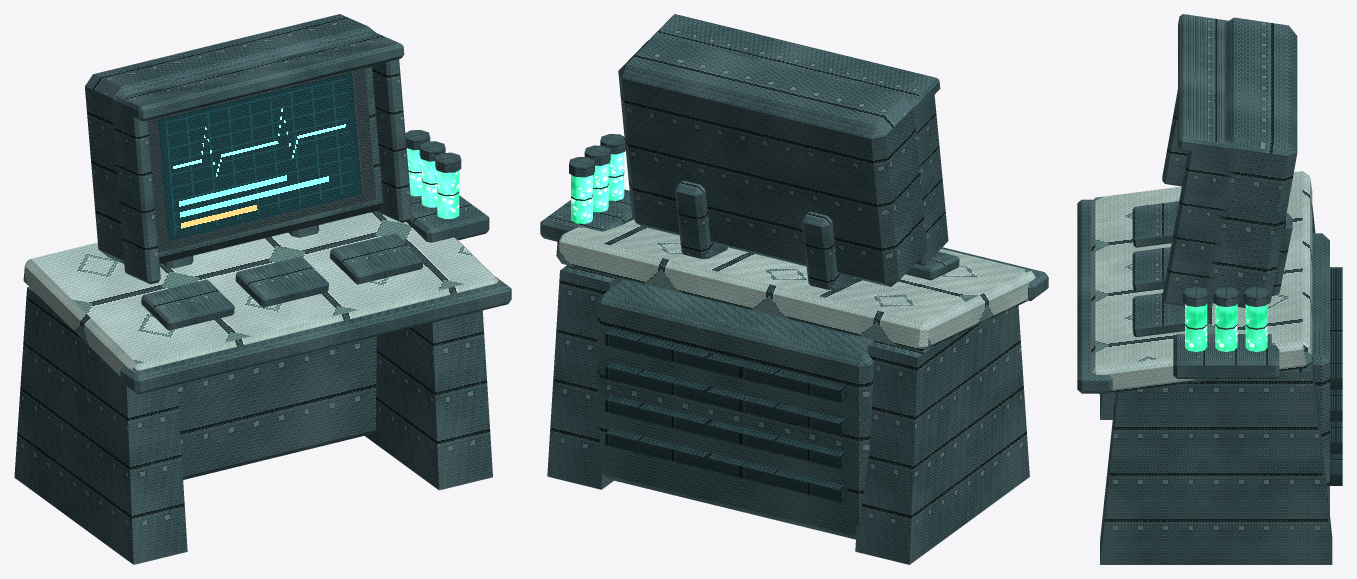
Rendered from medical_console.glb.
The picture shows the model from 3 angles, left to right: view 1: azimuth 30°, elevation 25°; view 2: azimuth 150°, elevation 25°; view 3: azimuth 270°, elevation 25°; orthographic projection. The views are drawn at different scales.
Visible parts, largest first — view 1: medical_console__hosp_metal_trim, medical_console__hosp_floor_hex, medical_console__hosp_monitor_screen, medical_console__hosp_bio_glass; view 2: medical_console__hosp_metal_trim, medical_console__hosp_floor_hex, medical_console__hosp_wall_main, medical_console__hosp_bio_glass; view 3: medical_console__hosp_metal_trim, medical_console__hosp_floor_hex, medical_console__hosp_bio_glass, medical_console__hosp_wall_main.
Boxes of the visible parts, x1,y1,x2,y2 form: medical_console__hosp_metal_trim: [14, 14, 511, 564]; medical_console__hosp_floor_hex: [23, 211, 498, 376]; medical_console__hosp_monitor_screen: [147, 67, 375, 252]; medical_console__hosp_bio_glass: [406, 148, 459, 218]; medical_console__hosp_metal_trim: [540, 14, 1048, 564]; medical_console__hosp_floor_hex: [556, 219, 1035, 351]; medical_console__hosp_wall_main: [605, 329, 847, 502]; medical_console__hosp_bio_glass: [571, 152, 624, 223]; medical_console__hosp_metal_trim: [1077, 14, 1332, 564]; medical_console__hosp_floor_hex: [1091, 171, 1312, 394]; medical_console__hosp_bio_glass: [1185, 304, 1267, 351]; medical_console__hosp_wall_main: [1330, 267, 1342, 485].
Size of the model in its own units: 1.8 by 1.77 by 1.05.
5 materials, 5 textured.
